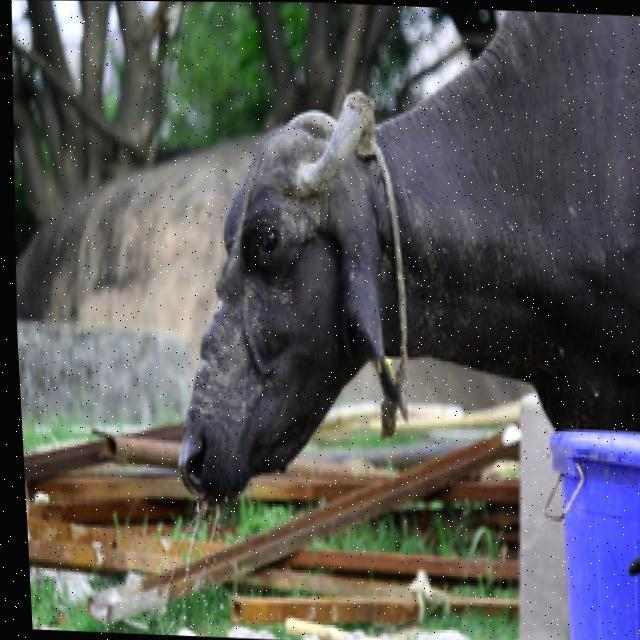Buffalo: (149, 1, 640, 526)
